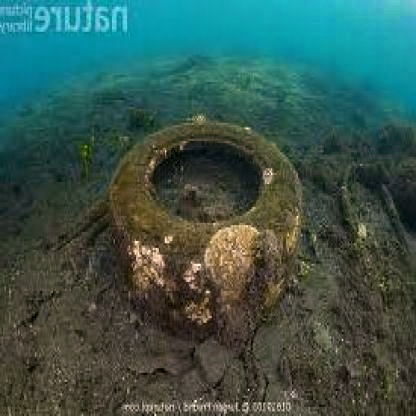tire: (109, 111, 304, 330)
